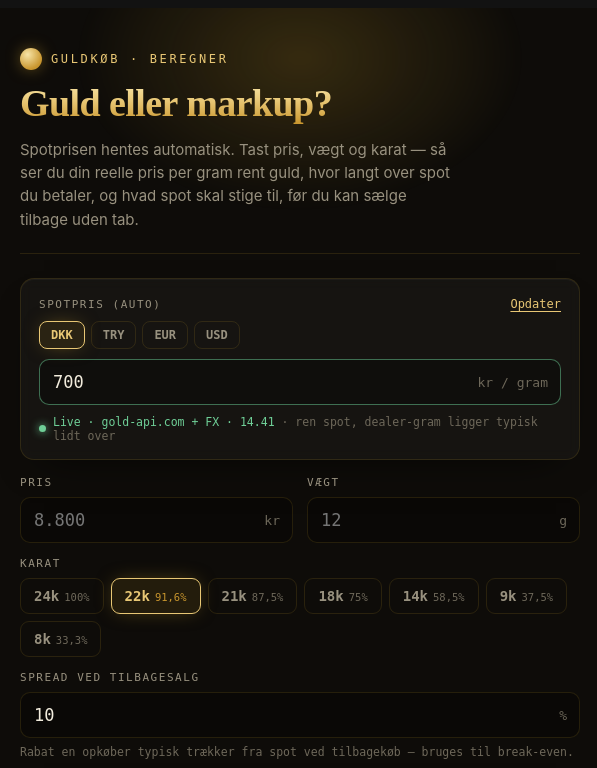
Test: currency switching › converts live spot when switching and persists the choice
Expected: the field with placeholder "fx 875" holds "700", [39, 359, 561, 405]
Click the button "EUR". click: (165, 335)
box: [142, 321, 188, 349]
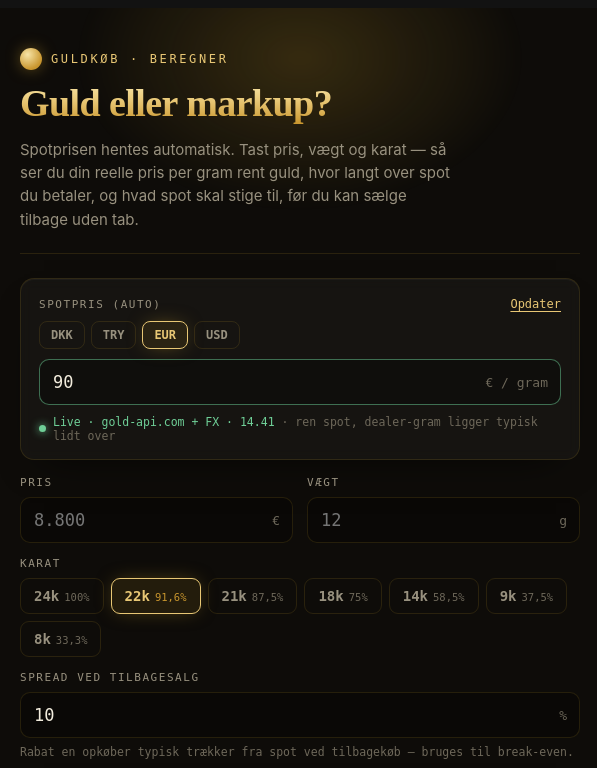
Result: the field with placeholder "fx 875" holds "90" at [39, 359, 561, 405]
Click the button "TRY". click: (114, 335)
box: [91, 321, 136, 349]
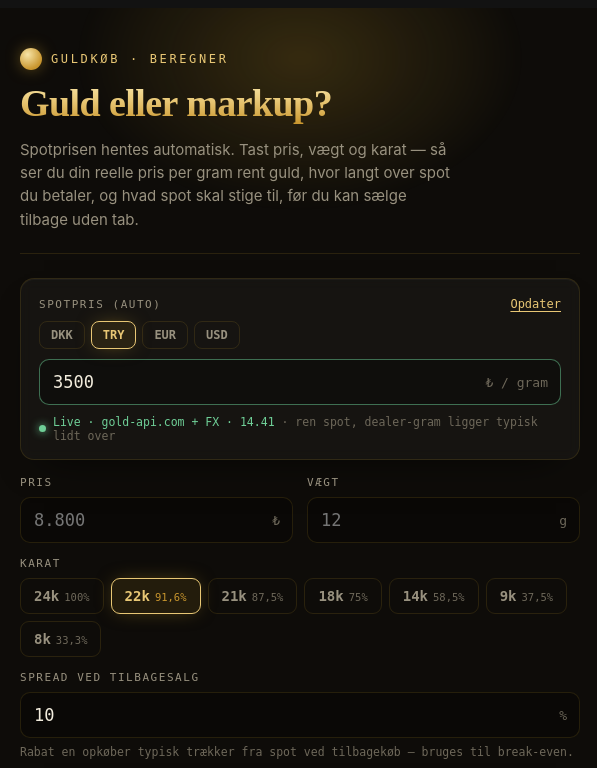
Result: the field with placeholder "fx 875" holds "3500" at [39, 359, 561, 405]
